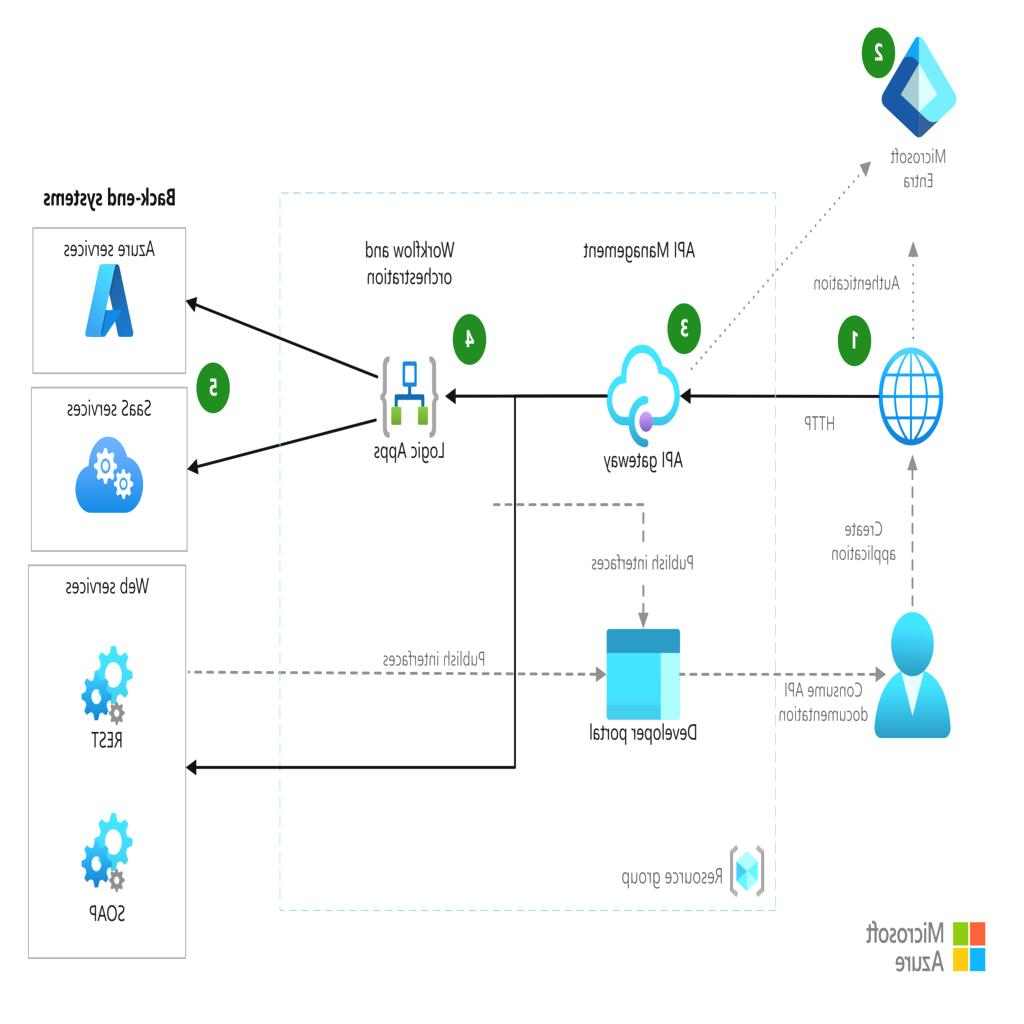actor: (876, 611, 952, 737), (878, 346, 945, 442)
api_gateway: (605, 340, 683, 448)
compute: (607, 620, 681, 728), (81, 618, 138, 744), (81, 792, 138, 918), (76, 427, 143, 511), (386, 348, 435, 440), (85, 257, 134, 341)
data_flow: (690, 176, 870, 356), (185, 288, 388, 396), (185, 396, 388, 472), (514, 394, 518, 872), (199, 764, 518, 768), (682, 672, 885, 676), (689, 392, 878, 396), (909, 238, 914, 346), (909, 484, 914, 581), (480, 392, 598, 396), (642, 499, 646, 607)
trust_boundary: (280, 188, 777, 910), (551, 228, 729, 806), (32, 566, 188, 958), (326, 228, 495, 538), (32, 386, 188, 552), (32, 226, 188, 372)
